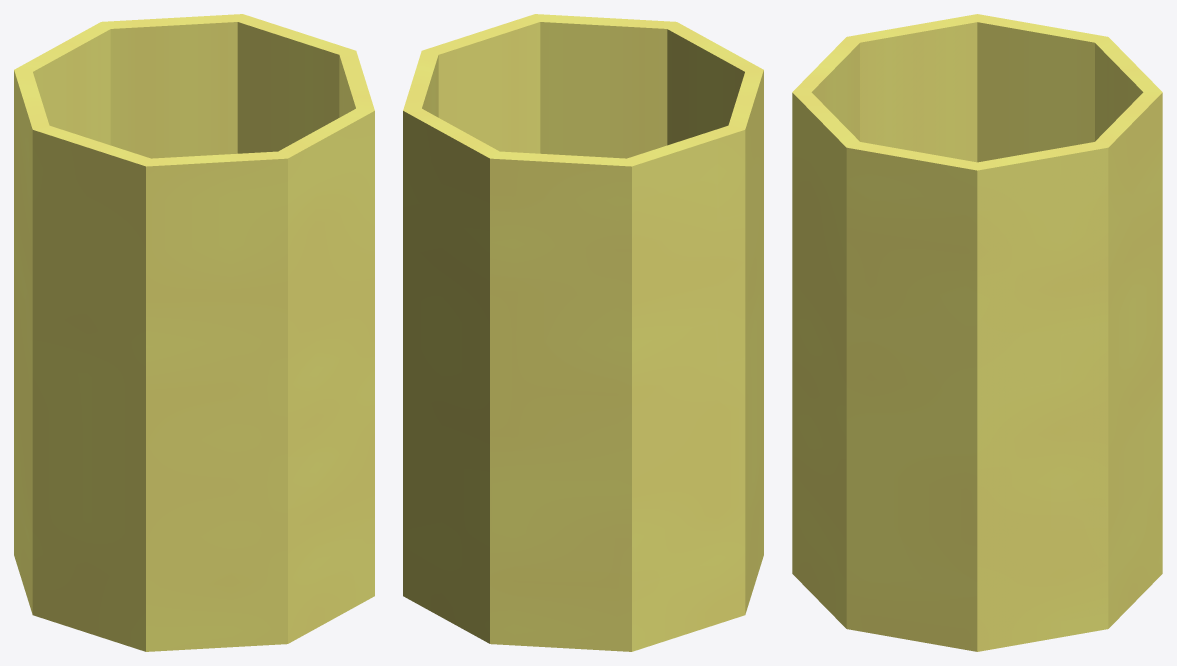
Rendered from Cup_mini_5.fbx.
The picture shows the model from 3 angles, left to right: view 1: azimuth 30°, elevation 25°; view 2: azimuth 150°, elevation 25°; view 3: azimuth 270°, elevation 25°; orthographic projection.
Visible parts, largest first — view 1: Cup_mini_5; view 2: Cup_mini_5; view 3: Cup_mini_5.
Boxes of the visible parts, left/top/right/bottom form: Cup_mini_5: left=14, top=14, right=374, bottom=651; Cup_mini_5: left=403, top=14, right=763, bottom=651; Cup_mini_5: left=792, top=14, right=1162, bottom=651.
Size of the model in its own units: 2.42 by 3.47 by 2.42.
